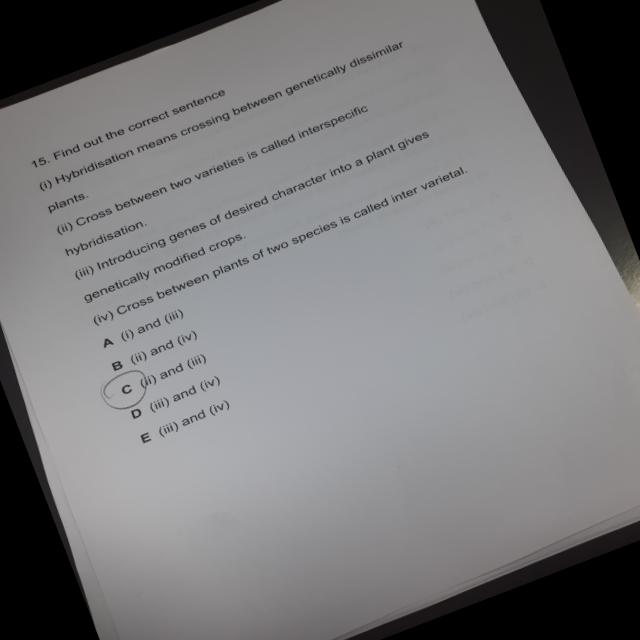C: (94, 363, 160, 419)
